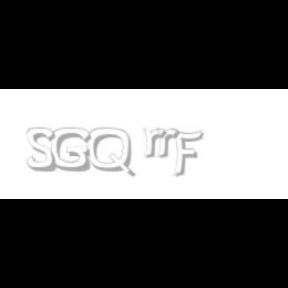F: (171, 128, 203, 178)
G: (51, 128, 91, 172)
Q: (88, 128, 134, 178)
S: (26, 128, 58, 172)
r: (142, 128, 170, 158), (156, 128, 182, 158)
